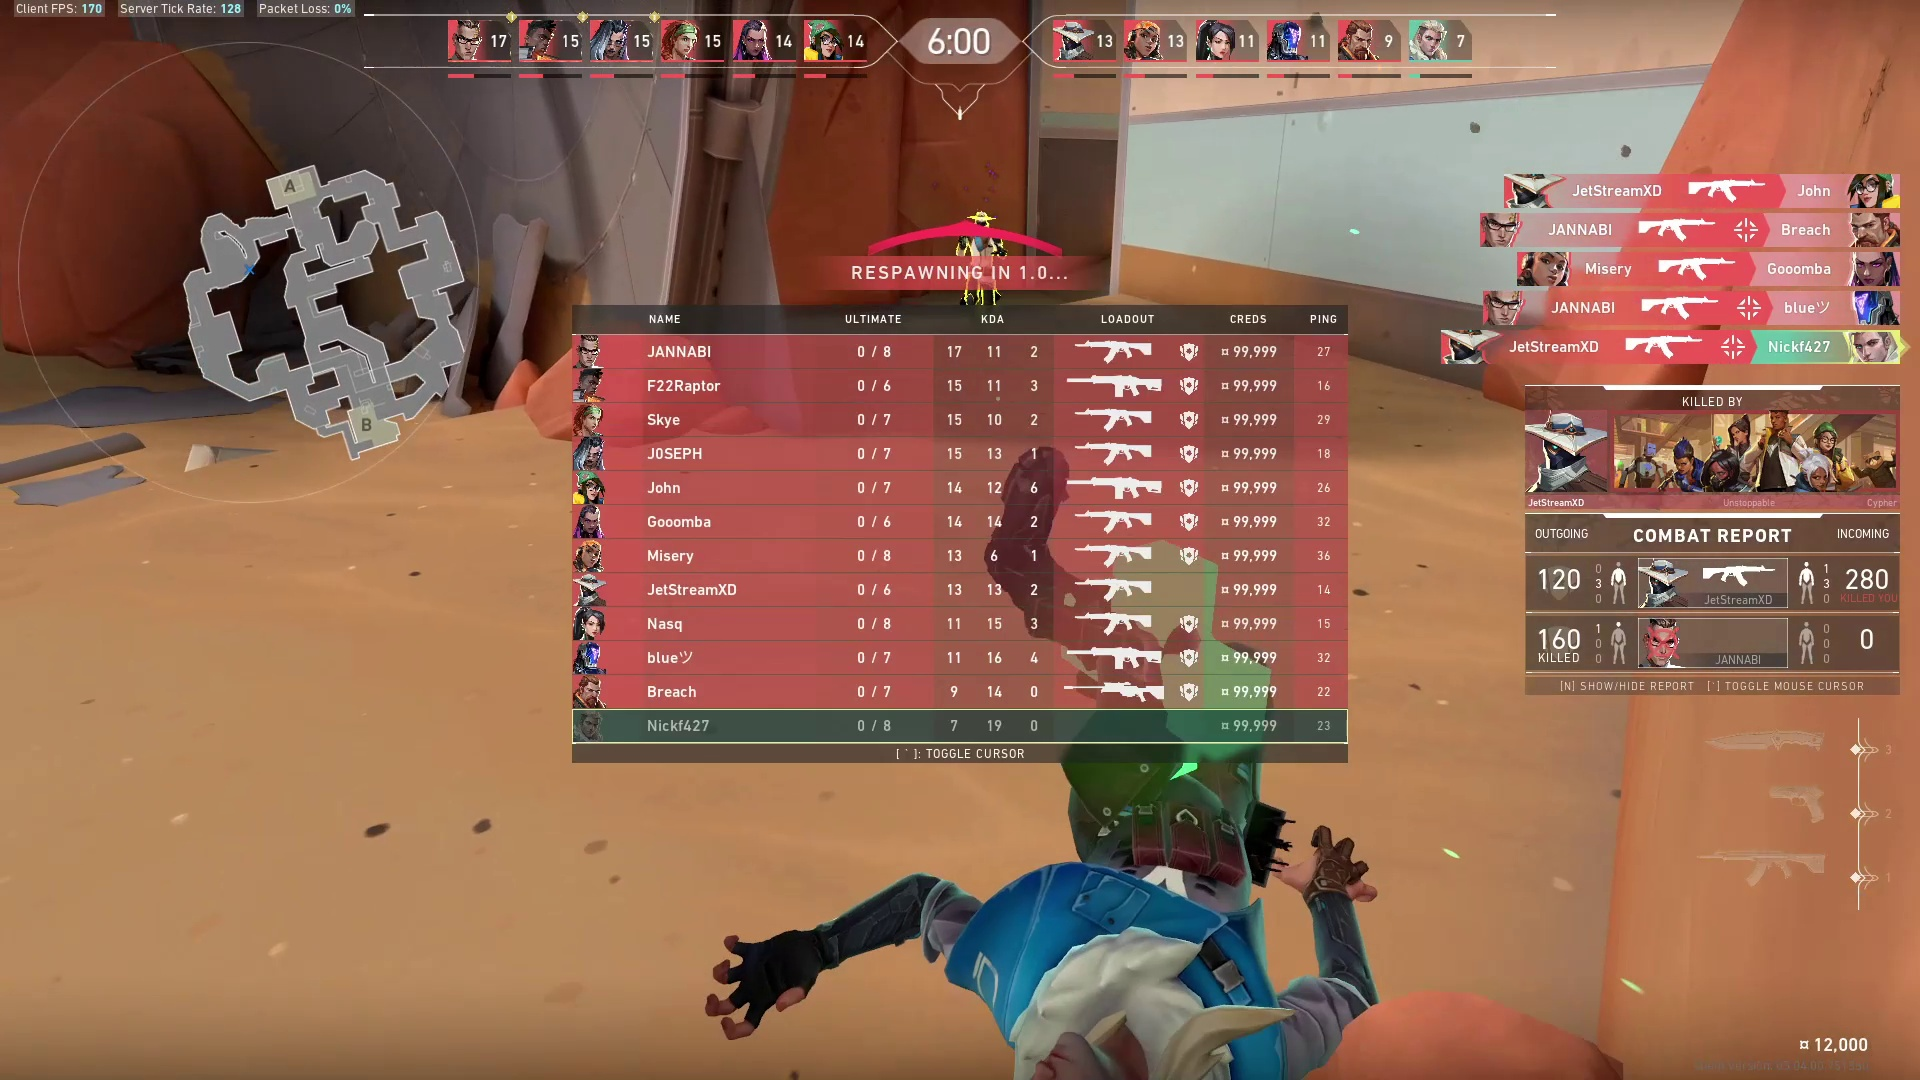enemy_gen: (952, 235, 1014, 258)
